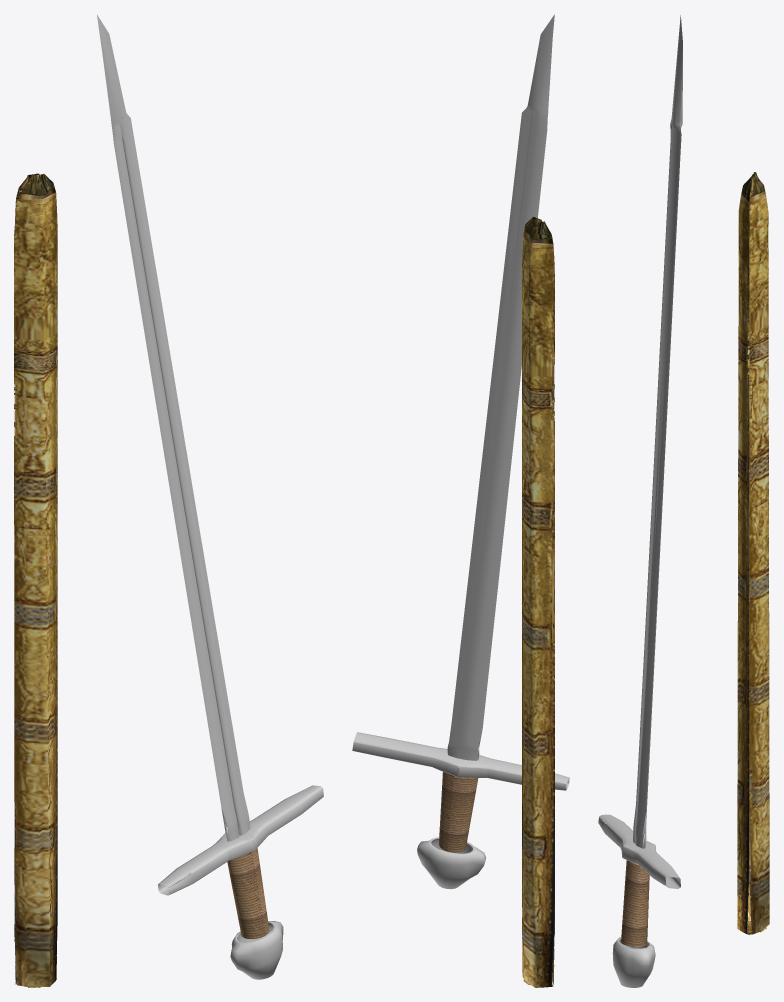
The model's file is sword1.obj.
3 renders of one model, left to right at view 1: azimuth 30°, elevation 25°; view 2: azimuth 150°, elevation 25°; view 3: azimuth 270°, elevation 25°, orthographic. The views are drawn at different scales.
Visible parts, largest first — view 1: Cube_Cube.001, Mesh_(2)_Mesh.004, Mesh_(2)_Mesh.003, Mesh_(2)_Mesh.002, Mesh_(2)_Mesh.001, Cube_Cube.003; view 2: Cube_Cube.003, Mesh_(2)_Mesh.004, Mesh_(2)_Mesh.003, Mesh_(2)_Mesh.002, Mesh_(2)_Mesh.001; view 3: Cube_Cube.003, Cube_Cube.001, Mesh_(2)_Mesh.004, Mesh_(2)_Mesh.003, Mesh_(2)_Mesh.002, Mesh_(2)_Mesh.001.
Boxes of the visible parts, <box> form: Cube_Cube.001: <box>14,173,57,986</box>; Mesh_(2)_Mesh.004: <box>97,15,250,841</box>; Mesh_(2)_Mesh.003: <box>158,785,323,895</box>; Mesh_(2)_Mesh.002: <box>227,848,269,938</box>; Mesh_(2)_Mesh.001: <box>230,921,283,979</box>; Cube_Cube.003: <box>14,173,57,987</box>; Cube_Cube.003: <box>522,218,554,987</box>; Mesh_(2)_Mesh.004: <box>447,14,554,760</box>; Mesh_(2)_Mesh.003: <box>352,732,569,790</box>; Mesh_(2)_Mesh.002: <box>439,772,478,852</box>; Mesh_(2)_Mesh.001: <box>417,837,485,889</box>; Cube_Cube.003: <box>747,172,769,934</box>; Cube_Cube.001: <box>737,174,766,934</box>; Mesh_(2)_Mesh.004: <box>633,15,682,848</box>; Mesh_(2)_Mesh.003: <box>598,814,680,888</box>; Mesh_(2)_Mesh.002: <box>621,860,649,946</box>; Mesh_(2)_Mesh.001: <box>612,937,655,987</box>.
Bounding box in the file's own units: 0.3254 × 1.18 × 0.1995.
